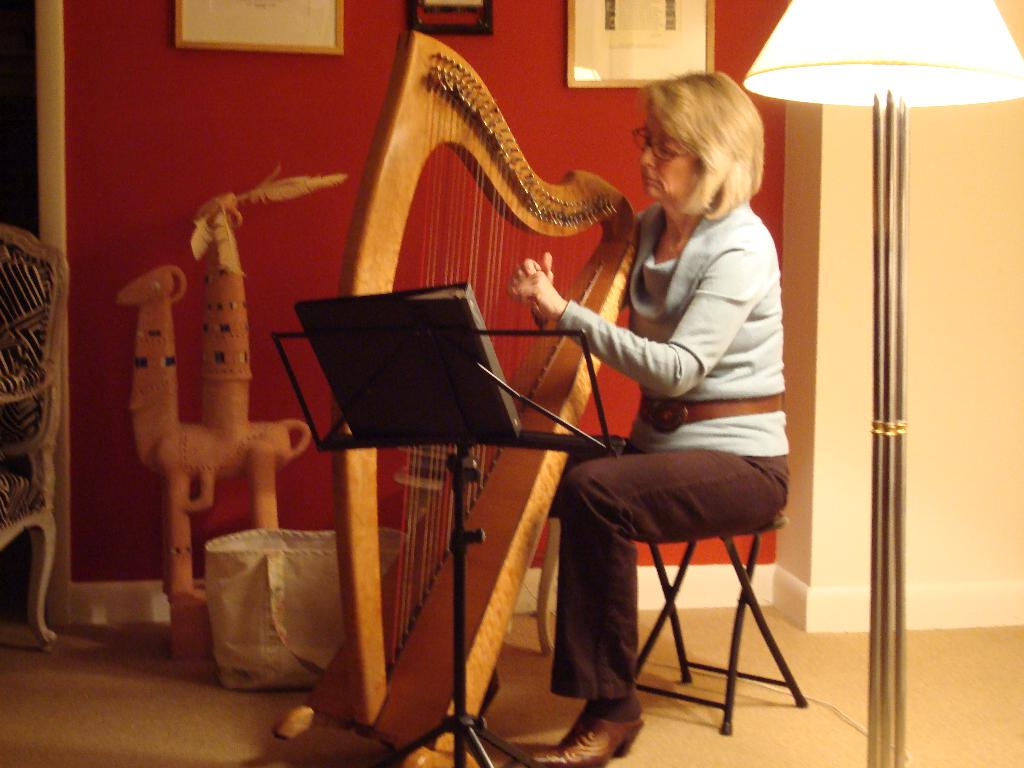Person: (504, 67, 791, 768)
